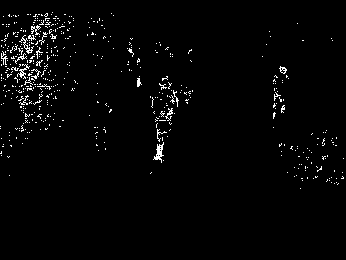person: (152, 78, 176, 163), (272, 64, 290, 120)
